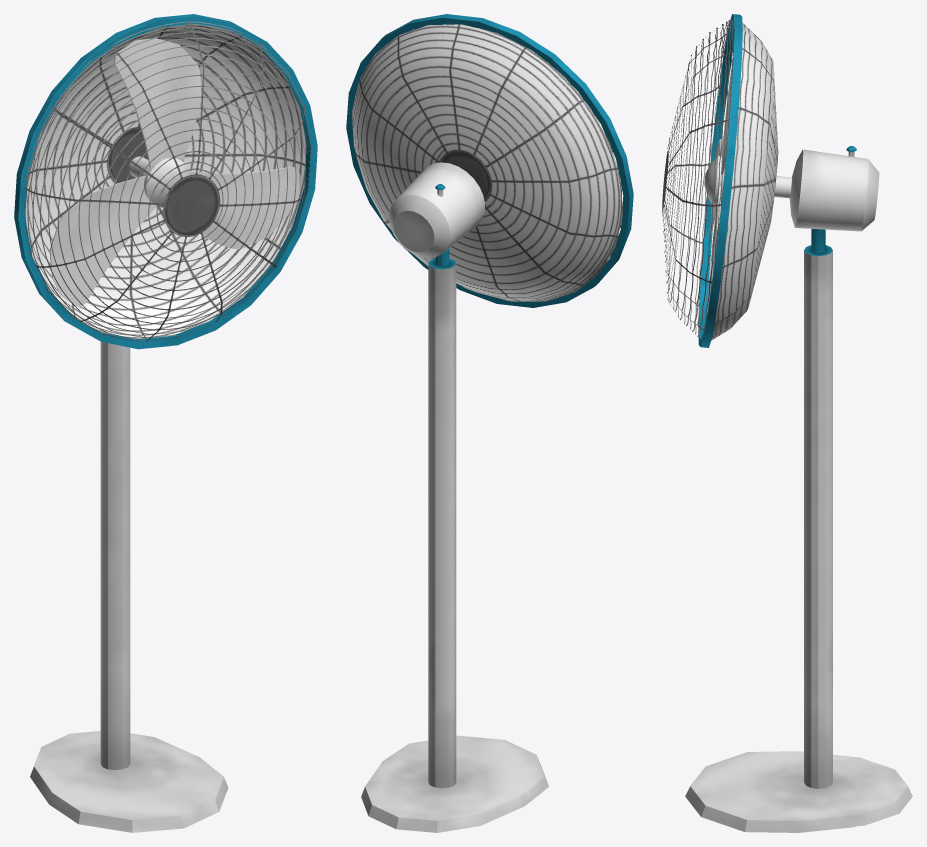
The model's file is Ventilador_De_Pie.fbx.
The picture shows the model from 3 angles, left to right: view 1: azimuth 30°, elevation 25°; view 2: azimuth 150°, elevation 25°; view 3: azimuth 270°, elevation 25°; orthographic projection. The views are drawn at different scales.
Parts seen in each view (by area): view 1: Cylinder.001, Cylinder.004, Cylinder, Cylinder.002, Plane.003, Plane, Plane.004, Cylinder.003; view 2: Cylinder.001, Cylinder.004, Cylinder.002, Cylinder.003; view 3: Cylinder.004, Cylinder.001, Cylinder, Cylinder.003, Cylinder.002.
Part boxes in pixels (left/top/right/bottom): Cylinder.001: left=25, top=24, right=306, bottom=339; Cylinder.004: left=30, top=342, right=228, bottom=832; Cylinder: left=23, top=21, right=312, bottom=341; Cylinder.002: left=14, top=14, right=317, bottom=349; Plane.003: left=49, top=176, right=156, bottom=306; Plane: left=114, top=38, right=201, bottom=167; Plane.004: left=189, top=166, right=299, bottom=249; Cylinder.003: left=129, top=156, right=190, bottom=207; Cylinder.001: left=352, top=24, right=622, bottom=301; Cylinder.004: left=361, top=248, right=548, bottom=832; Cylinder.002: left=346, top=14, right=633, bottom=307; Cylinder.003: left=389, top=162, right=484, bottom=257; Cylinder.004: left=685, top=229, right=912, bottom=832; Cylinder.001: left=707, top=22, right=778, bottom=340; Cylinder: left=662, top=18, right=733, bottom=339; Cylinder.003: left=704, top=149, right=879, bottom=231; Cylinder.002: left=698, top=14, right=742, bottom=347.
Bounding box in the file's own units: 207 × 521 × 154.
Materials: 2 (2 with a texture image).
